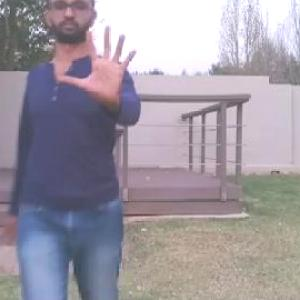follow_hand: (53, 18, 142, 111)
